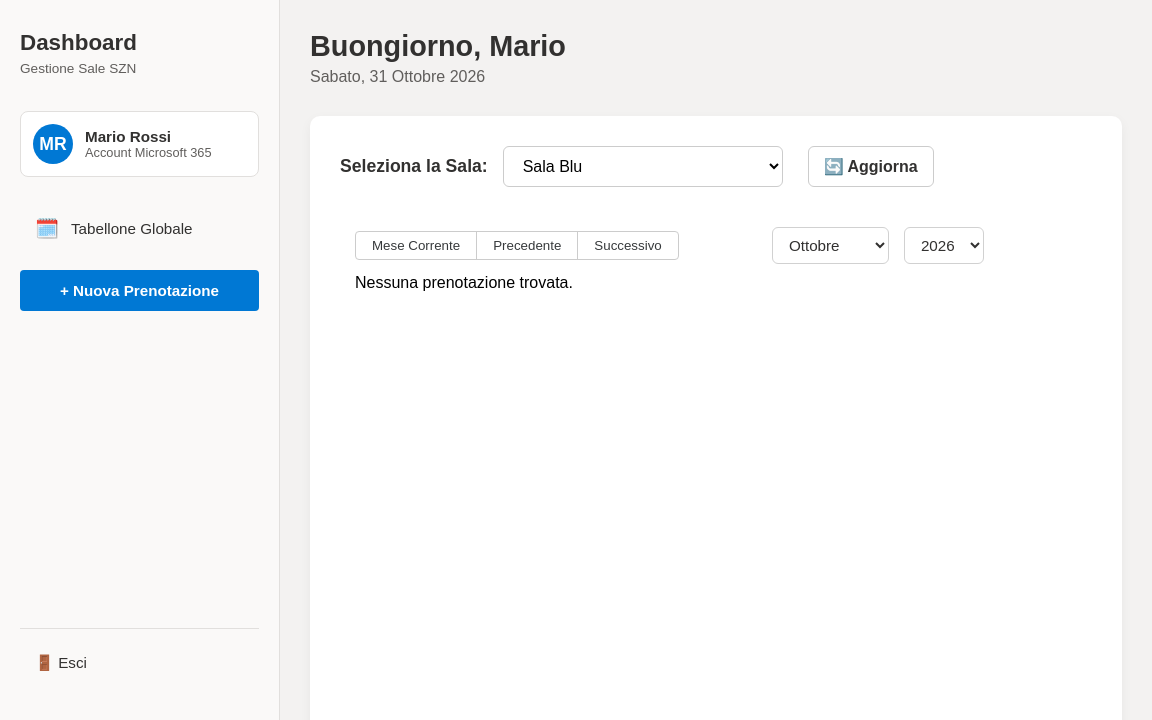
it: Vista Globale con Risultato Parziale › Comportamento UI App in Vista Globale › risposta parziale: mostra banner con nomi sale e NON scrive in cache
Click the button with class "bottone-menu" showing "🗓️ Tabellone Globale" at (140, 228), box [20,207,259,250]
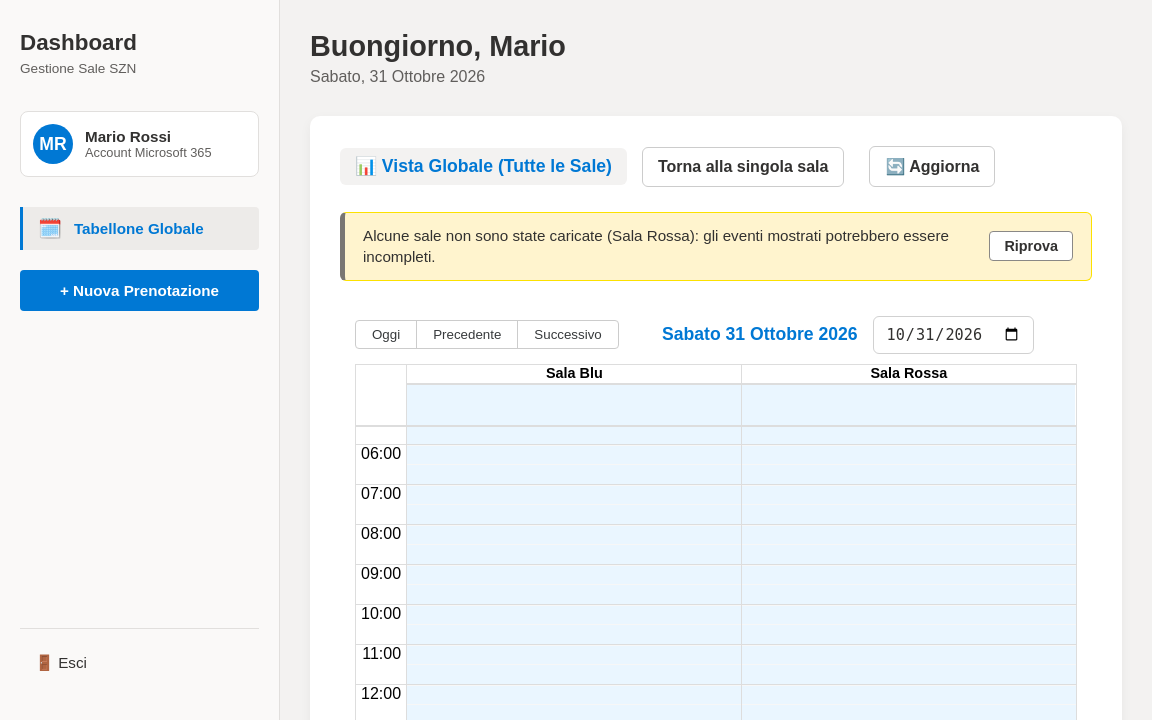
expect the message with class "banner-warning" shows "Alcune sale non sono state caricate (Sala Rossa): gli eventi mostrati potrebbero essere incompleti.": met, box [340,212,1092,281]
